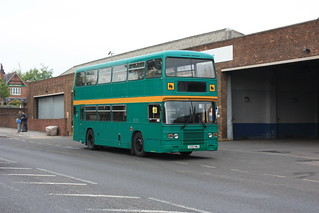bus: (71, 50, 218, 158)
